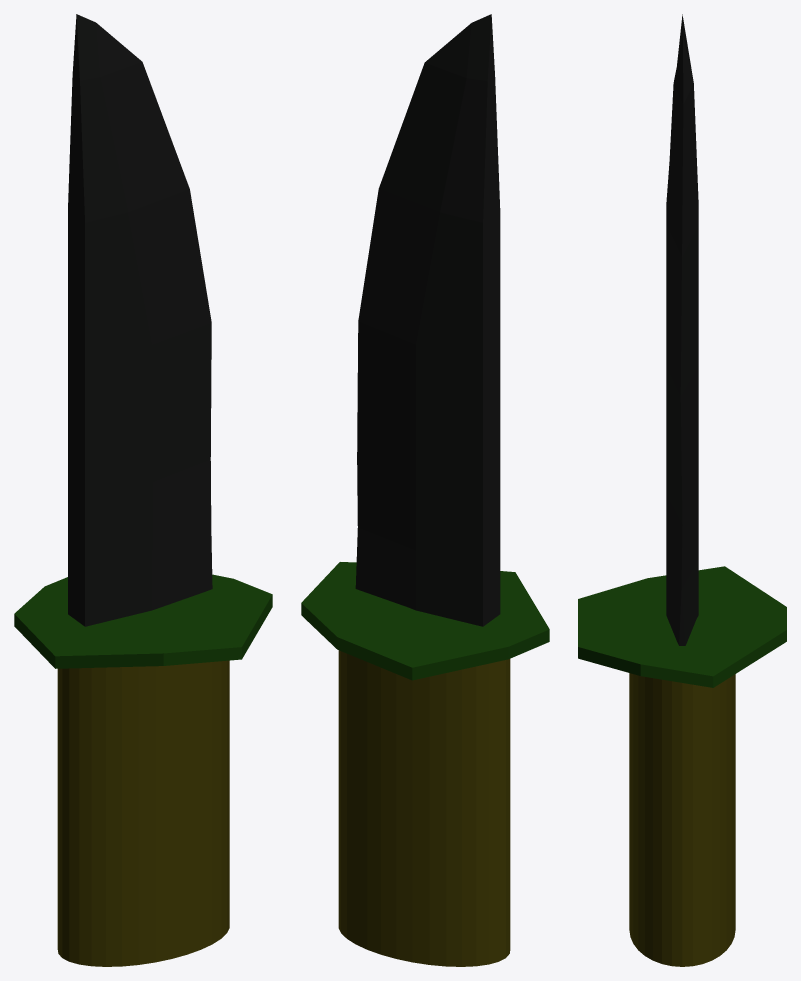
The model's file is knife.glb.
3 renders of one model, left to right at view 1: azimuth 30°, elevation 25°; view 2: azimuth 150°, elevation 25°; view 3: azimuth 270°, elevation 25°, orthographic. The views are drawn at different scales.
Parts seen in each view (by area): view 1: Cube.002, Cylinder, Cube.001; view 2: Cube.002, Cylinder, Cube.001; view 3: Cylinder, Cube.002, Cube.001.
Part boxes in pixels (left/top/right/bottom): Cube.002: left=68, top=14, right=212, bottom=626; Cylinder: left=57, top=660, right=229, bottom=966; Cube.001: left=14, top=574, right=272, bottom=668; Cube.002: left=355, top=14, right=500, bottom=626; Cylinder: left=338, top=650, right=510, bottom=966; Cube.001: left=301, top=562, right=549, bottom=680; Cylinder: left=629, top=673, right=735, bottom=966; Cube.002: left=666, top=14, right=698, bottom=645; Cube.001: left=578, top=566, right=786, bottom=687.
Bounding box in the file's own units: 1.72 × 7.23 × 1.55.
